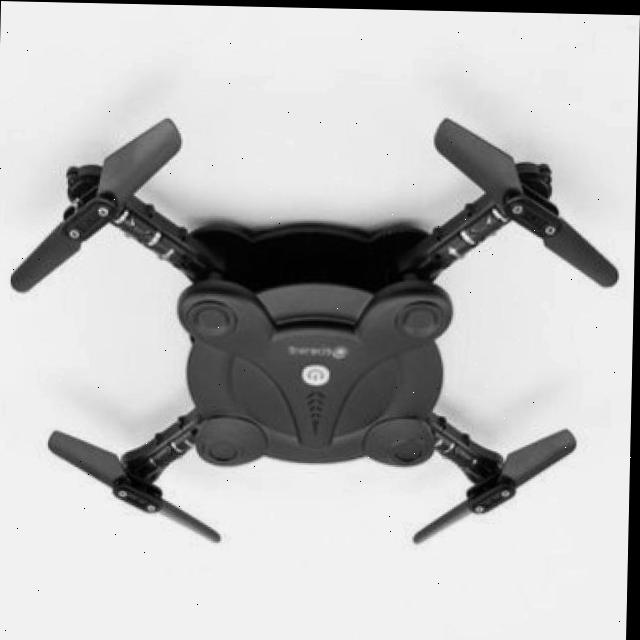drone: (0, 107, 612, 542)
